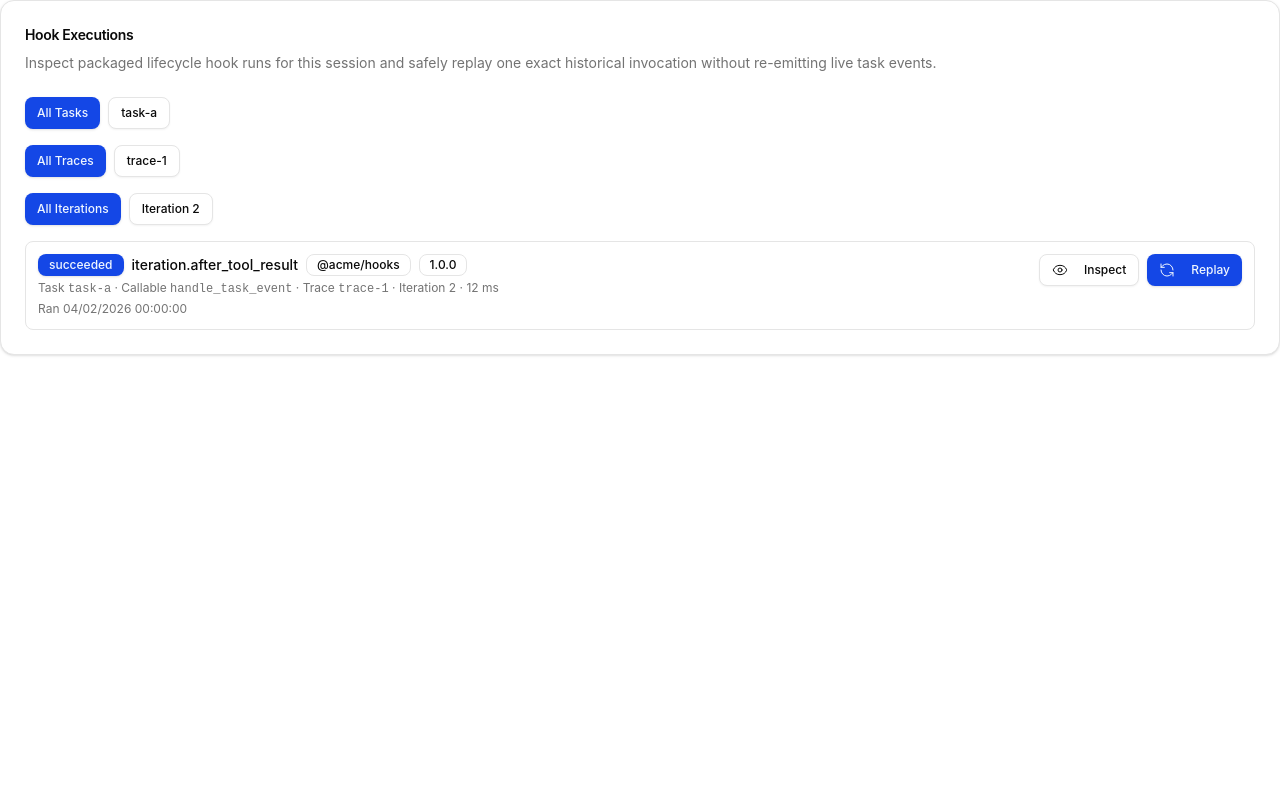
Test: OperationsHookReplayPanel › filters session hook logs by task, trace, and iteration then replays
This screenshot has width=1280, height=800.
expect the text "iteration.after_tool_result" is shown: met, box [132,255,298,275]
Click the button "task-a". click: {"x": 139, "y": 113}
box: [108,97,170,129]
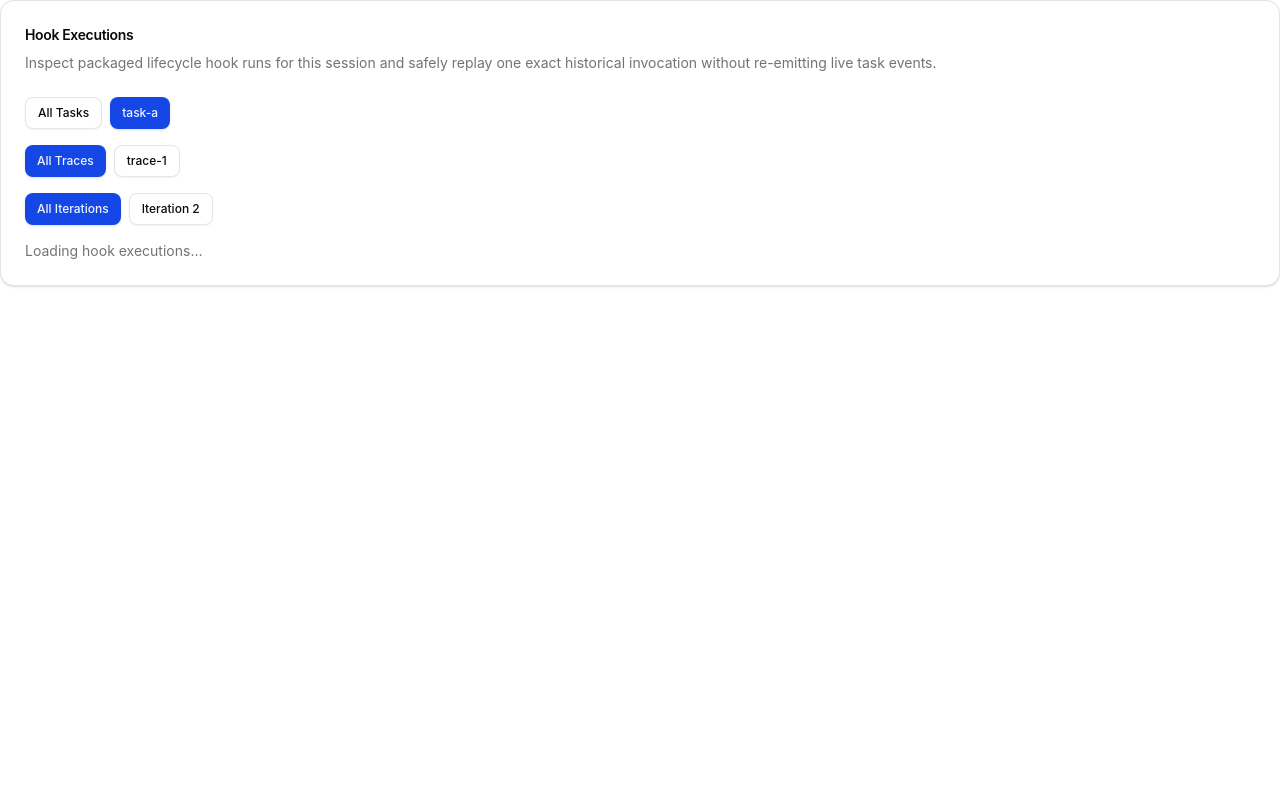
Click the button "trace-1". click: {"x": 147, "y": 161}
box: [114,145,180,177]
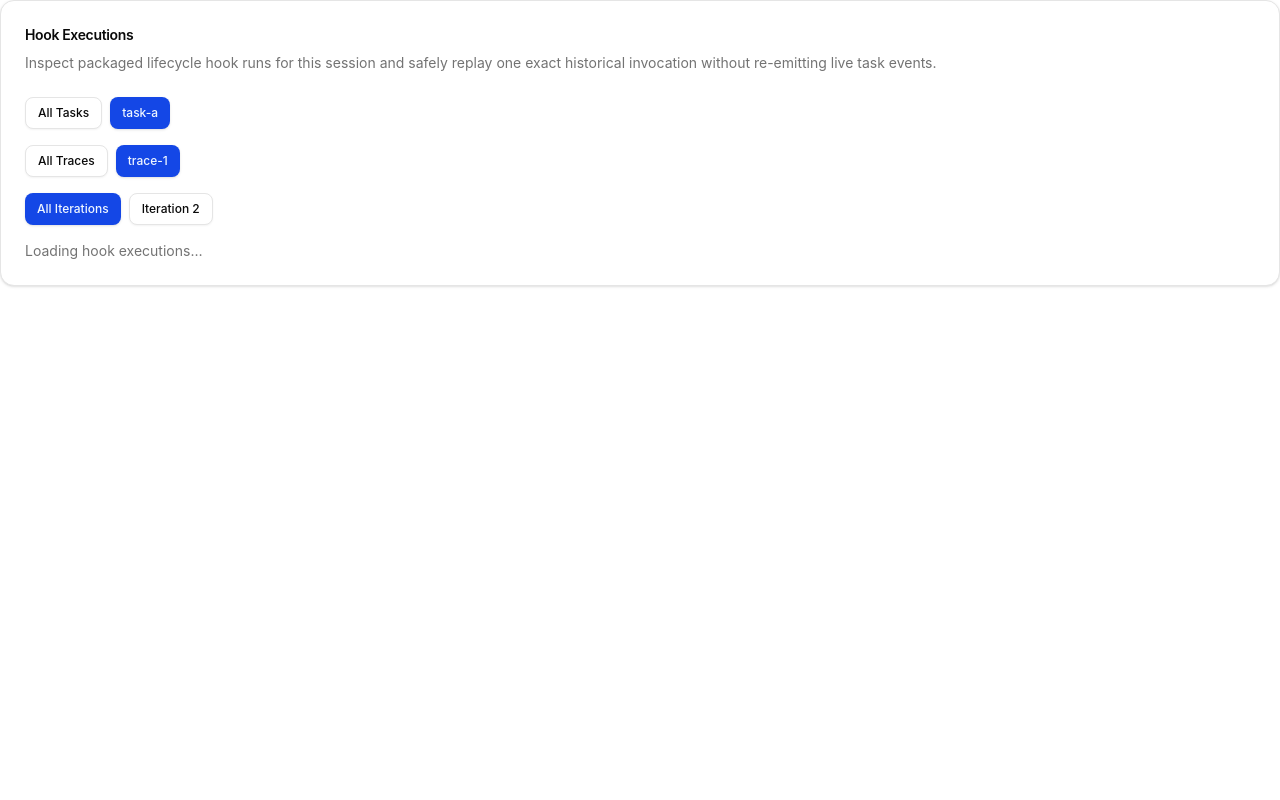
Click the button "Iteration 2". click: {"x": 171, "y": 209}
box: [129,193,213,225]
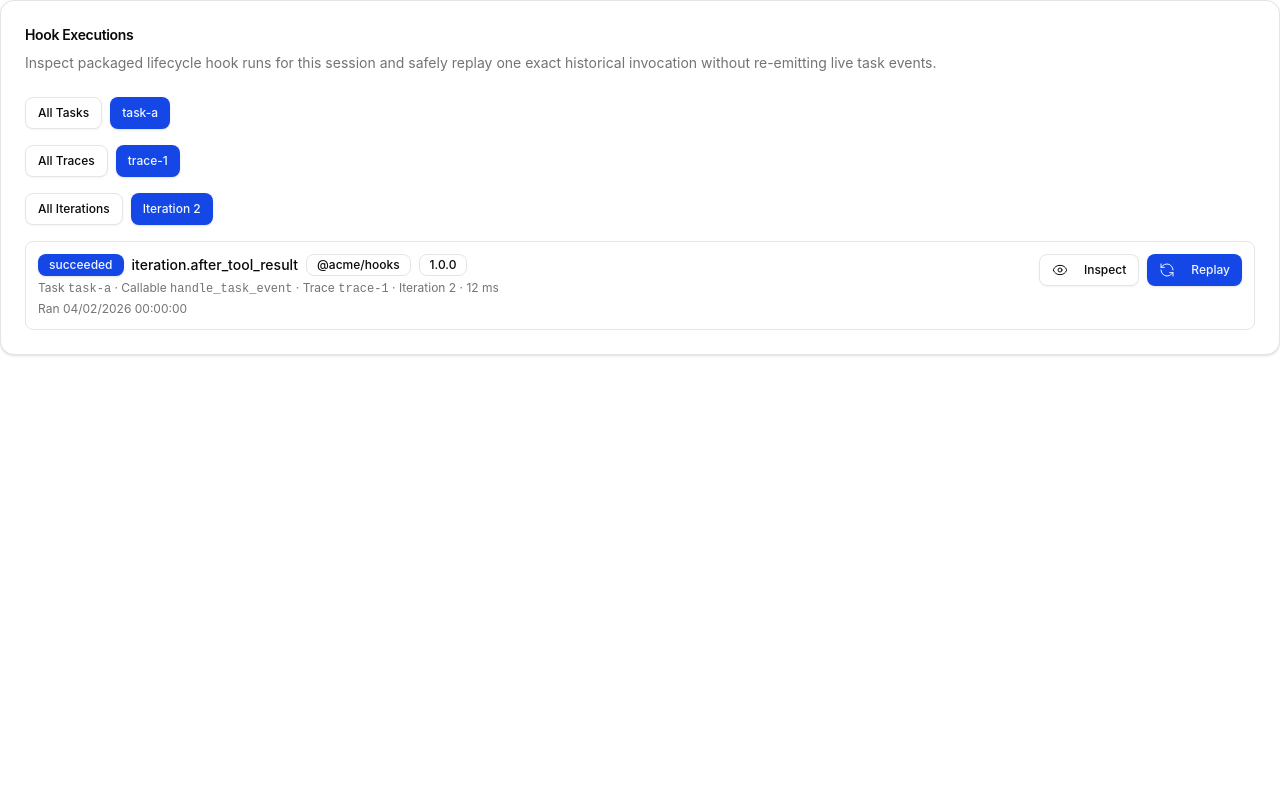
Click the button "Inspect". click: {"x": 1089, "y": 270}
box: [1039,254,1139,286]
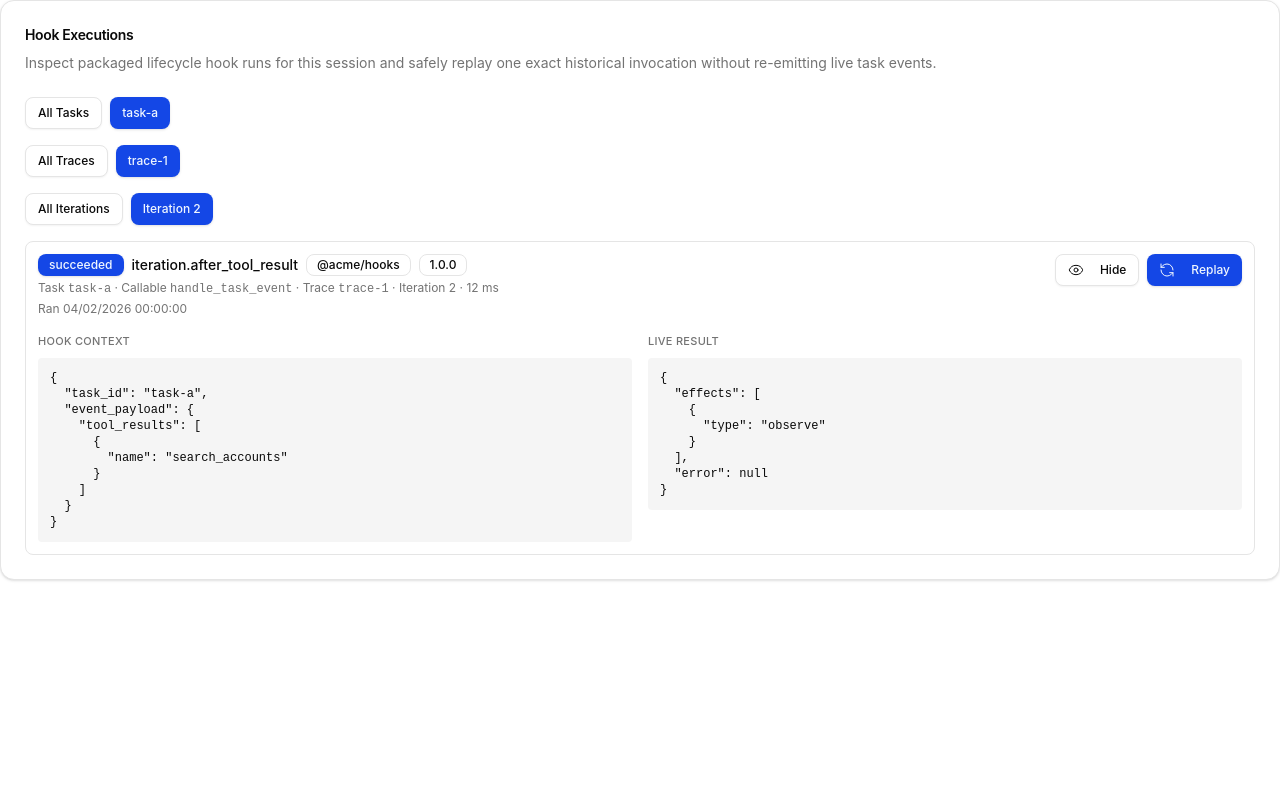
expect the text "Hook Context" is shown: met, box [38,334,130,348]
Click the button "Replay". click: {"x": 1195, "y": 270}
box: [1147,254,1242,286]
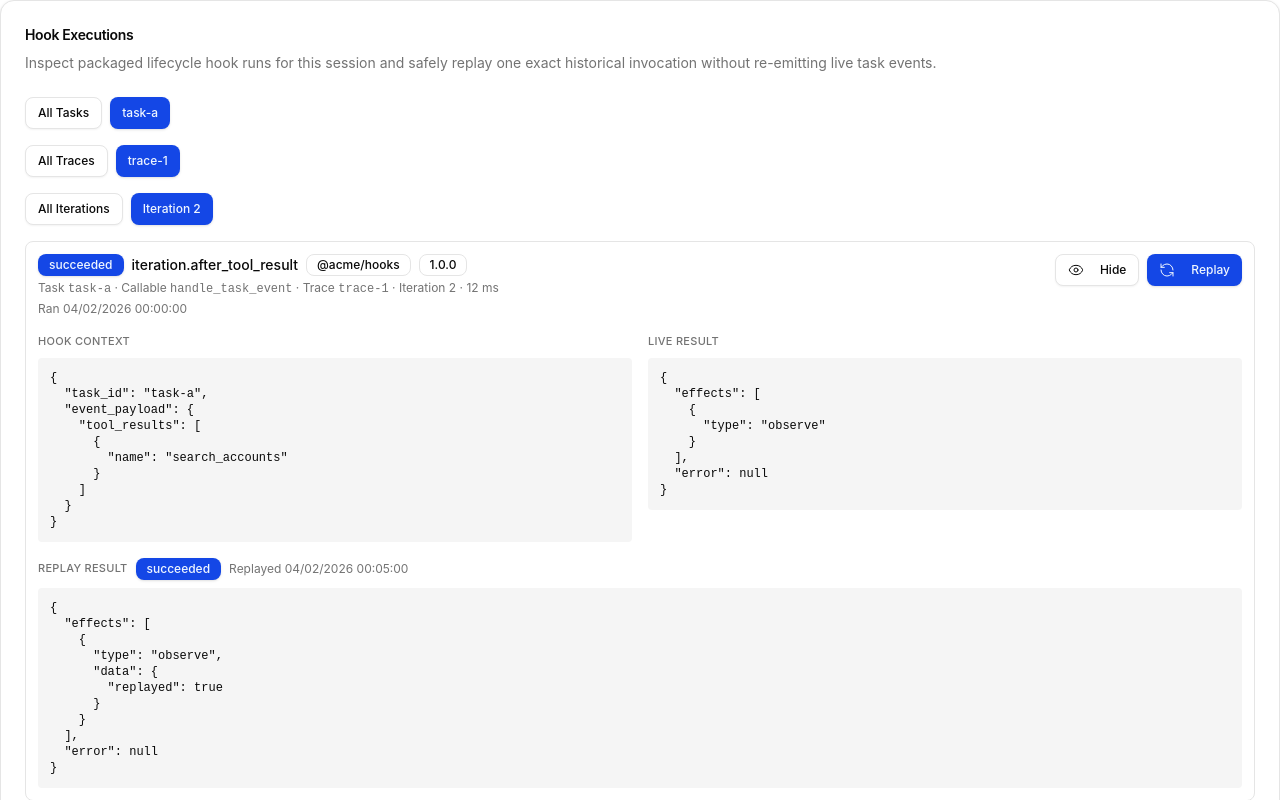
expect the text "Replay Result" is shown: met, box [38,560,128,577]
